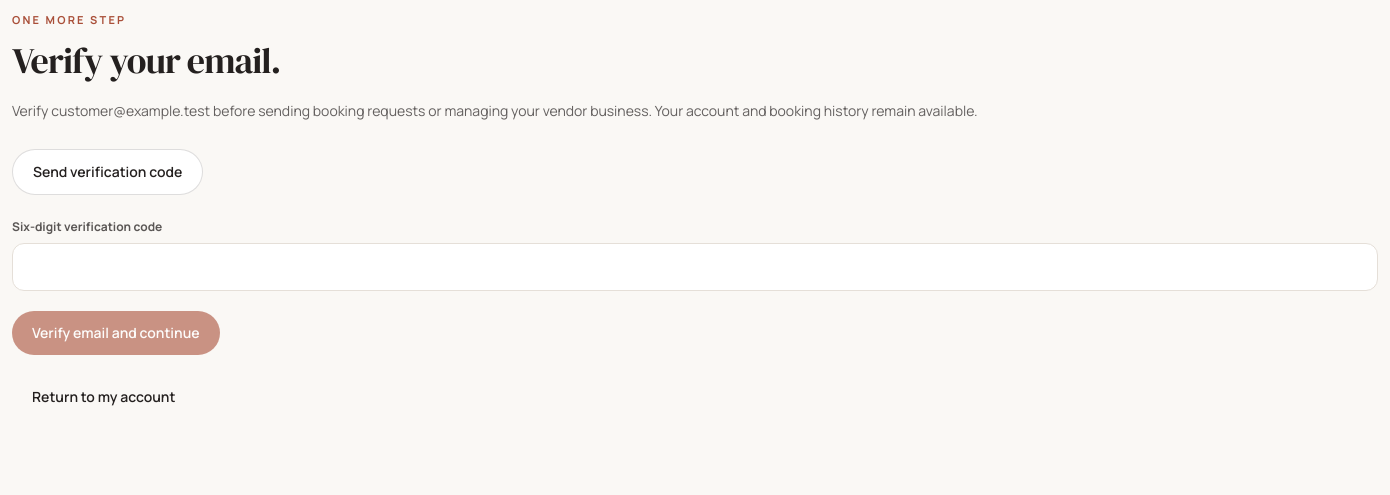
it: initial email verification › keeps invalid/expired codes recoverable without claiming verification
Type "123456" into the field labelled "Six-digit verification code".
click(695, 266); type("123456")  # box top-left (12, 242), bottom-right (1378, 290)
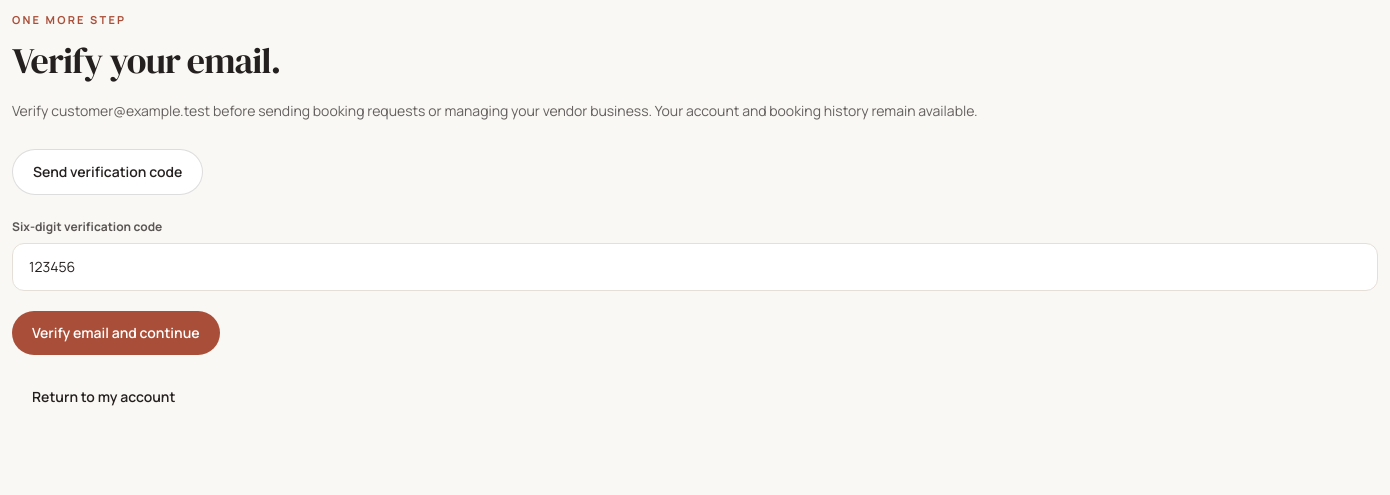
Click the button "Verify email and continue".
click(116, 332)  # box top-left (12, 310), bottom-right (220, 354)
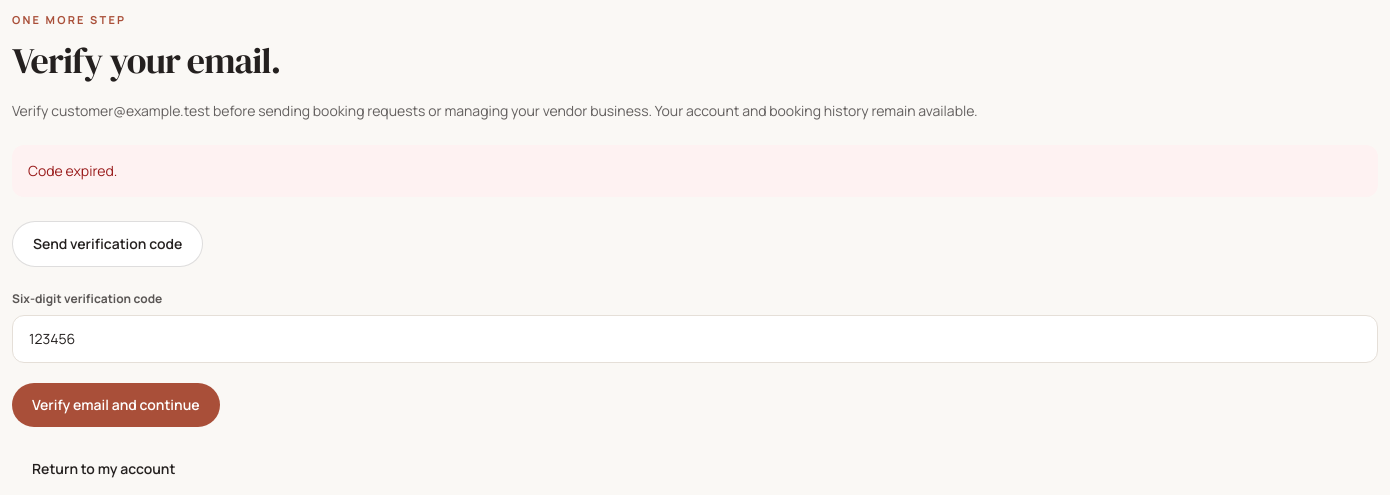
Check: the button "Verify email and continue" is enabled, box top-left (12, 382), bottom-right (220, 426)
Check: the message reads "Code expired.", box top-left (28, 160), bottom-right (117, 180)
